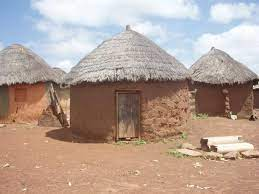Mud House: (63, 28, 195, 144), (1, 38, 69, 138), (185, 43, 258, 131)
